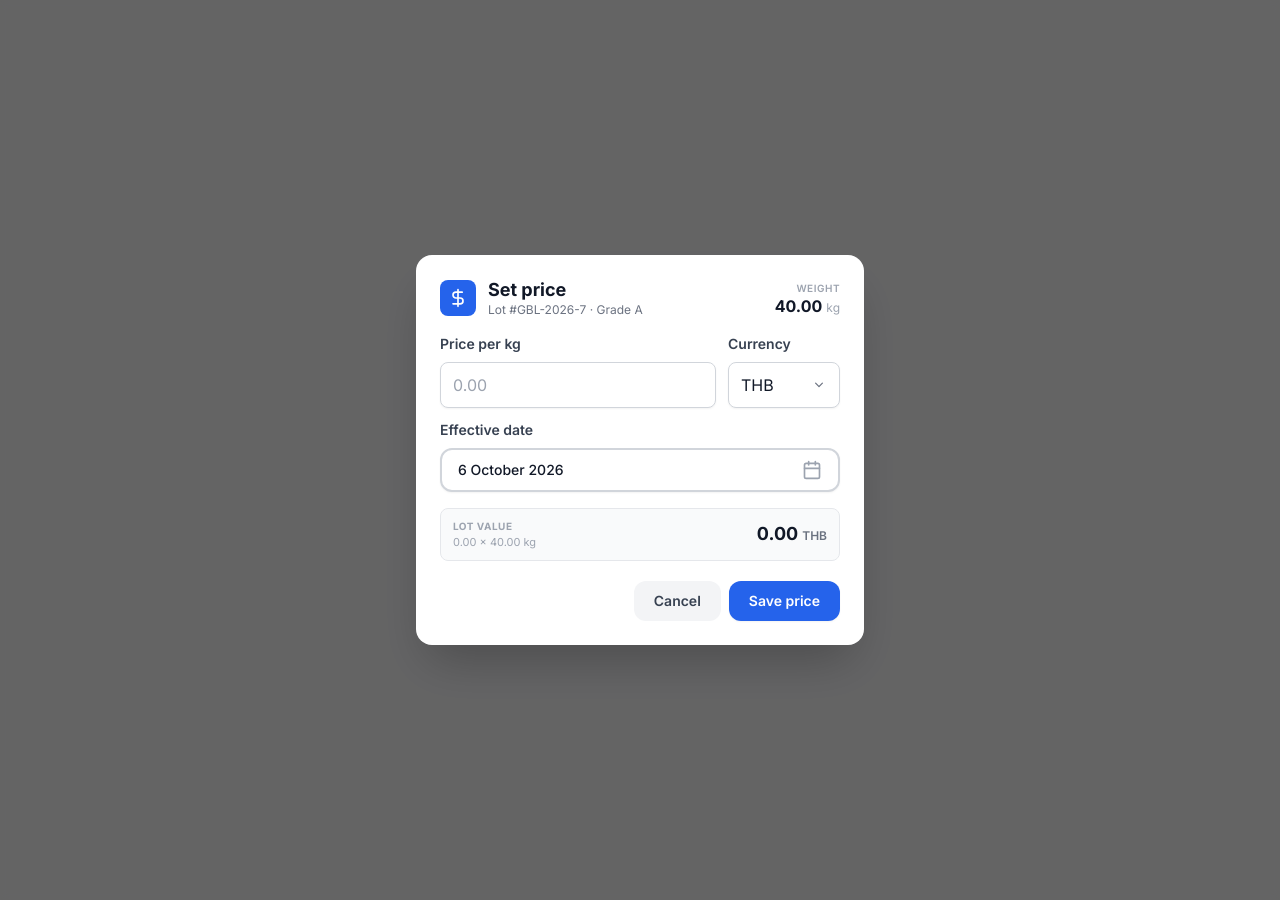
Test case: SetPriceModal › refuses to save a price of
Click the button "Save price": (784, 601) [729,581,840,621]
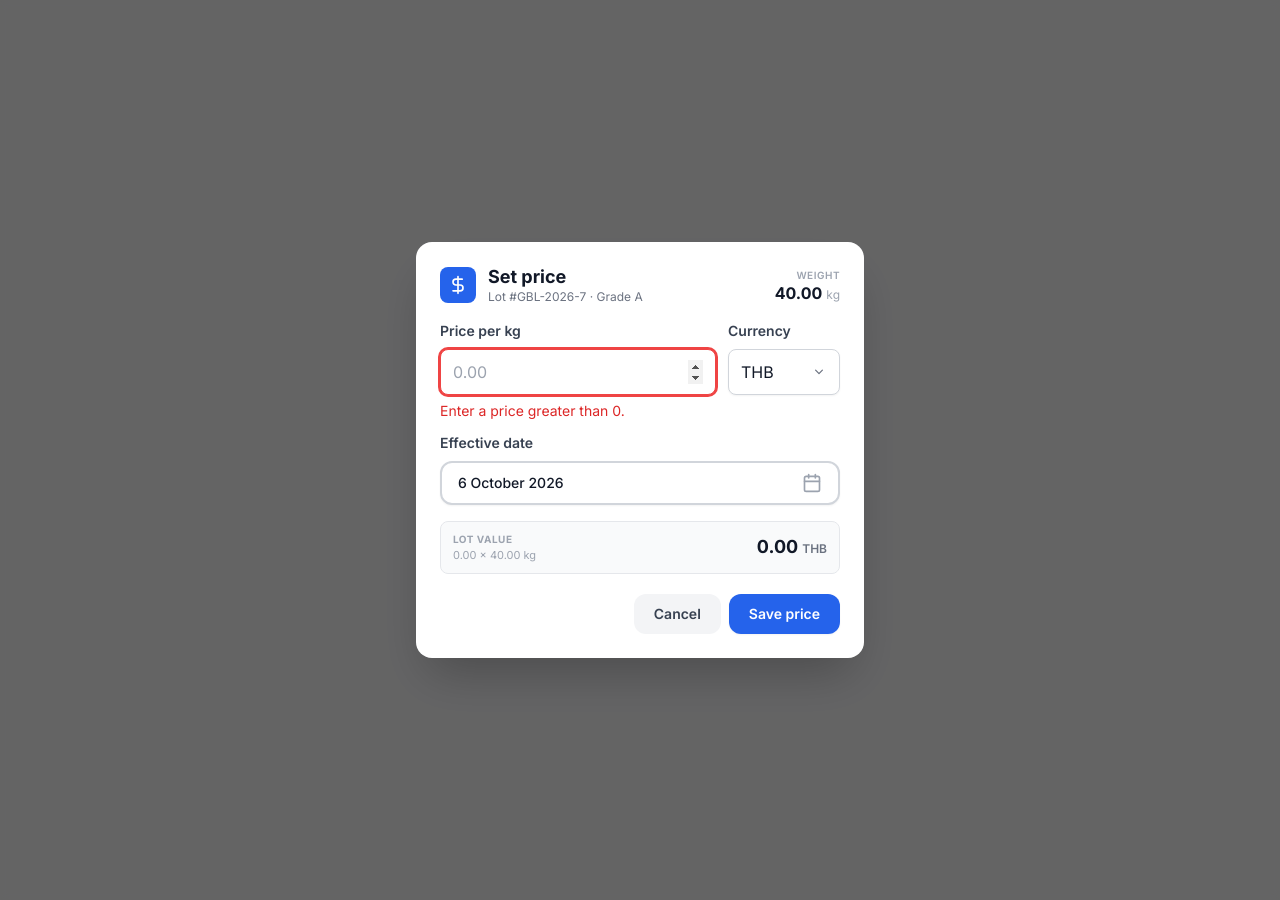
Result: the text "Enter a price greater than 0." is shown at [440,402,625,418]
